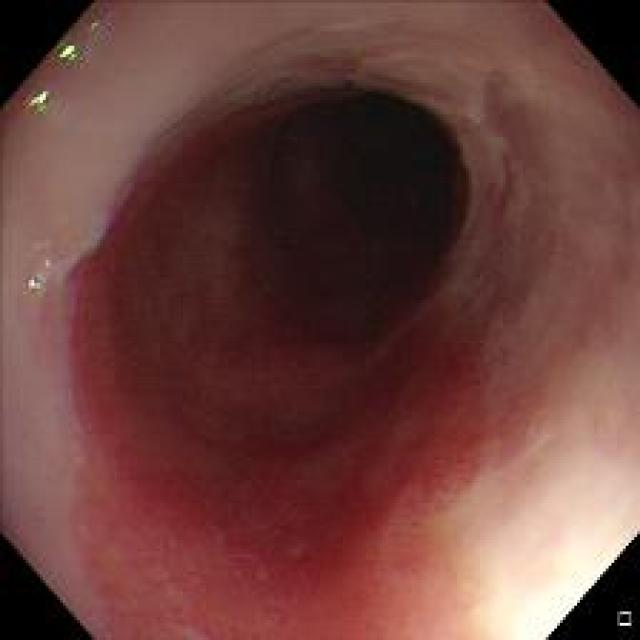color misalignment: (42, 4, 122, 81), (19, 211, 69, 302), (14, 82, 56, 120)
contrast: (218, 82, 495, 389)
saturation: (479, 502, 640, 638)
